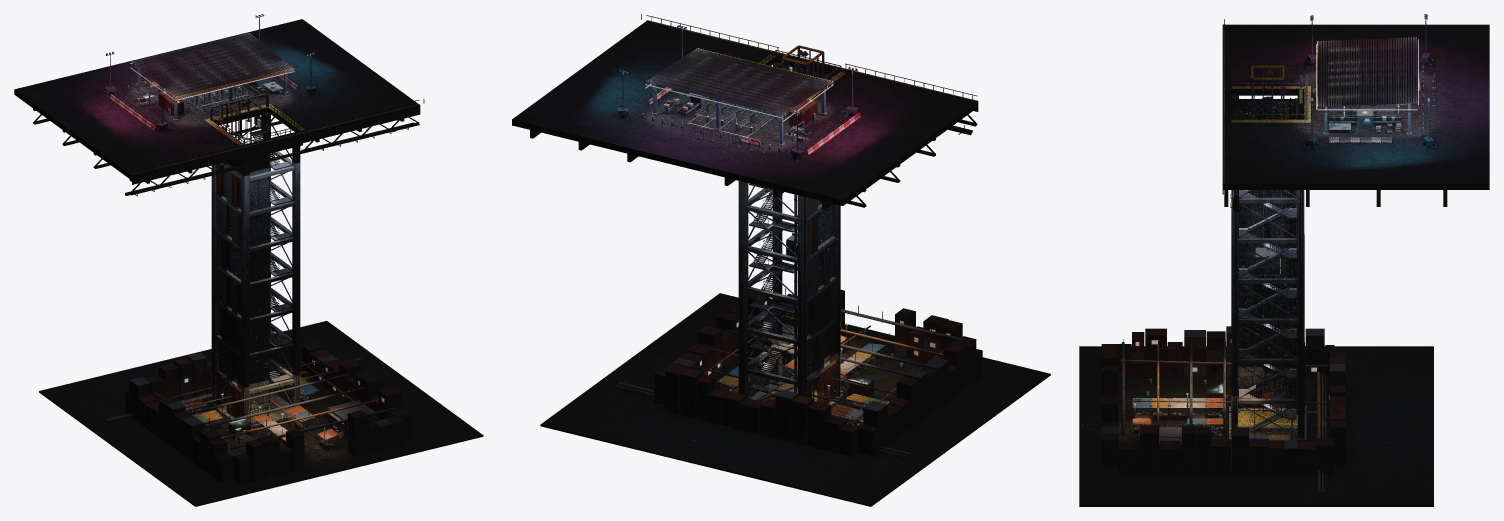
The model's file is well7_low.glb.
The picture shows the model from 3 angles, left to right: view 1: azimuth 30°, elevation 25°; view 2: azimuth 150°, elevation 25°; view 3: azimuth 270°, elevation 25°; orthographic projection. The views are drawn at different scales.
Parts seen in each view (by area): view 1: site_deck, props_shaft, site_ground, props_walls, props_checkpoint, props_market, props_gates, props_lights, props_shop, props_lift; view 2: site_deck, site_ground, props_walls, props_shaft, props_checkpoint, props_market, props_gates, props_lights, props_lift; view 3: site_deck, site_ground, props_walls, props_shaft, props_checkpoint, props_market, props_lift, props_gates, props_lights.
Boxes of the visible parts, x1,y1,x2,y2 form: site_deck: (14, 19, 424, 196); props_shaft: (209, 98, 302, 426); site_ground: (39, 321, 483, 506); props_walls: (125, 332, 411, 484); props_checkpoint: (130, 32, 294, 121); props_market: (103, 357, 361, 455); props_gates: (110, 73, 297, 131); props_lights: (104, 14, 324, 450); props_shop: (321, 400, 377, 438); props_lift: (219, 99, 269, 423); site_deck: (512, 14, 978, 209); site_ground: (540, 293, 1050, 506); props_walls: (654, 288, 982, 456); props_shaft: (738, 45, 843, 405); props_checkpoint: (645, 48, 833, 146); props_market: (614, 335, 910, 458); props_gates: (642, 87, 860, 154); props_lights: (611, 25, 896, 420); props_lift: (786, 50, 818, 401); site_deck: (1222, 19, 1489, 212); site_ground: (1079, 346, 1433, 506); props_walls: (1101, 326, 1345, 474); props_shaft: (1229, 65, 1306, 442); props_checkpoint: (1305, 37, 1418, 135); props_market: (1132, 353, 1326, 494); props_lift: (1254, 65, 1302, 418); props_gates: (1315, 55, 1435, 142); props_lights: (1134, 14, 1436, 427).
Size of the model in its own units: 69.11 by 73.48 by 74.
13 materials, 13 textured.
